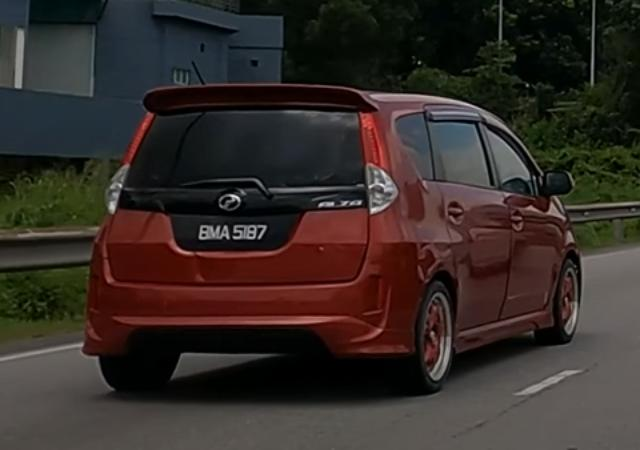License_Plate: (196, 223, 269, 244)
car: (81, 83, 585, 396)
